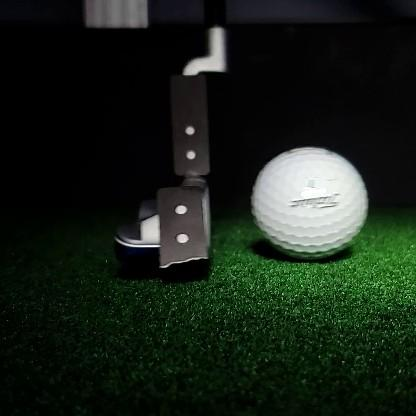golfball: (253, 147, 367, 259)
